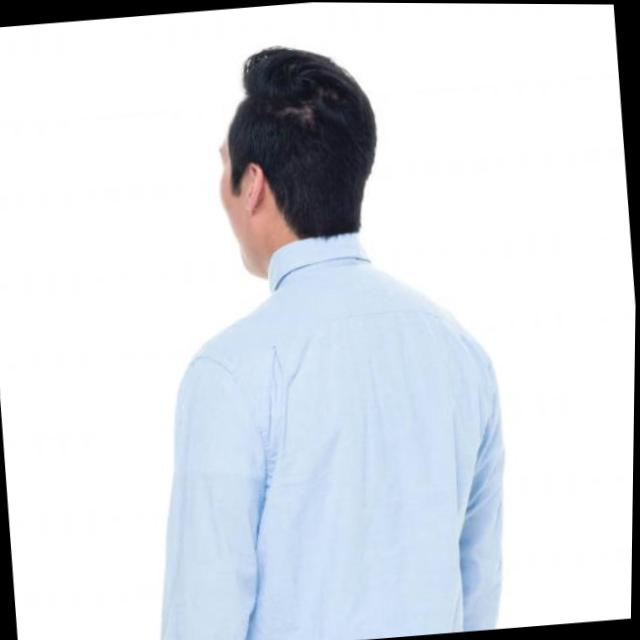no helmet: (219, 38, 385, 250)
